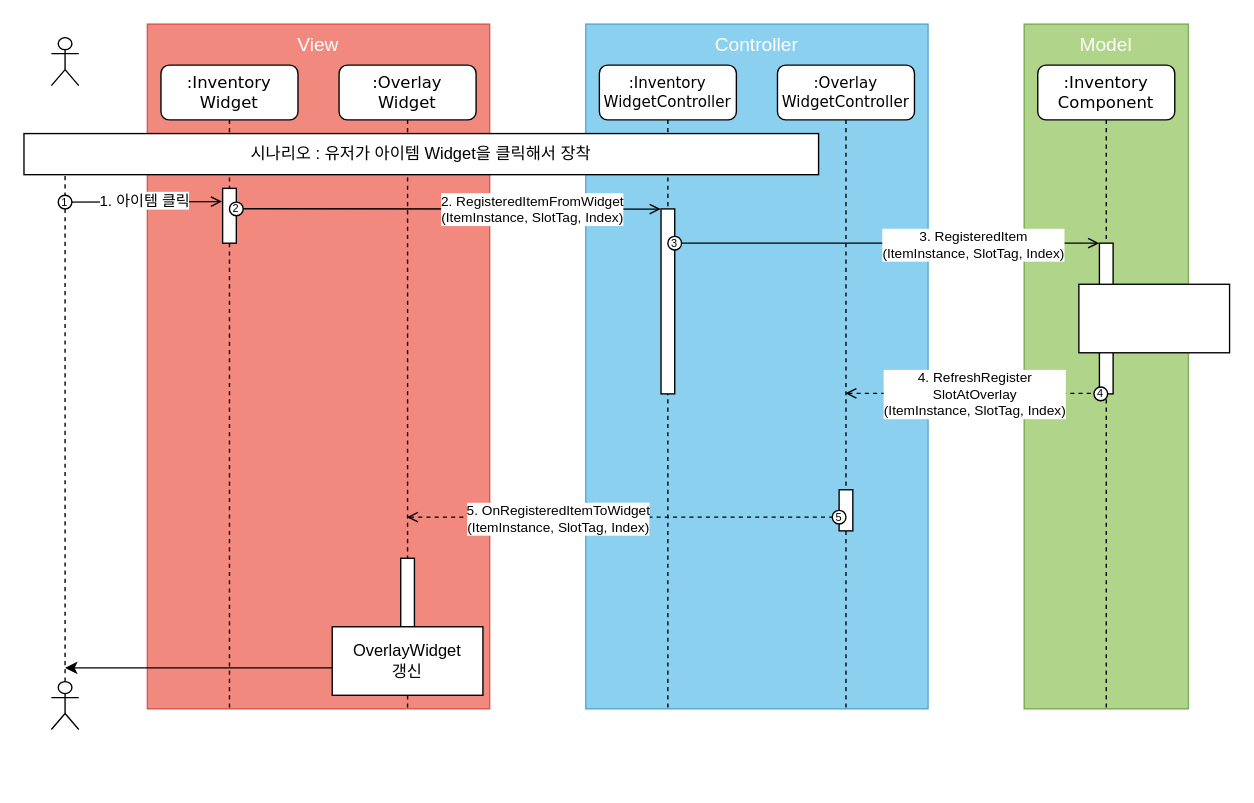
Image size: 1254x803. Some labels were removed from this diagram. Here are the shapes that lost their labels. From the top down, the box of each, then its label:
(50, 36, 79, 86): User (Input)
(1078, 283, 1230, 353): 아이템 장착 로직
(50, 680, 79, 730): User (Output)
